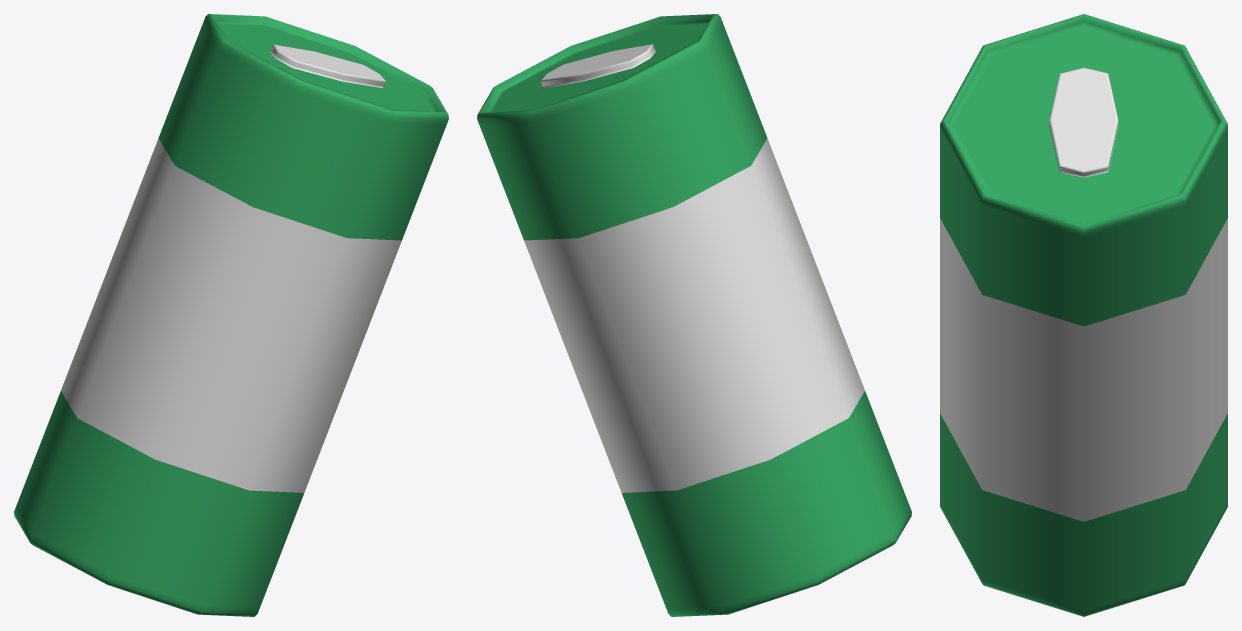
File: xequemate.glb
3 views of the same model, side by side, from view 1: azimuth 30°, elevation 25°; view 2: azimuth 150°, elevation 25°; view 3: azimuth 270°, elevation 25° (orthographic). The views are drawn at different scales.
Parts seen in each view (by area): view 1: xequemate; view 2: xequemate; view 3: xequemate.
Boxes of the visible parts, bbox=[...] form: xequemate: bbox=[14, 14, 448, 616]; xequemate: bbox=[477, 14, 911, 616]; xequemate: bbox=[940, 14, 1227, 616].
Size of the model in its own units: 0.6175 by 0.8095 by 0.3546.
